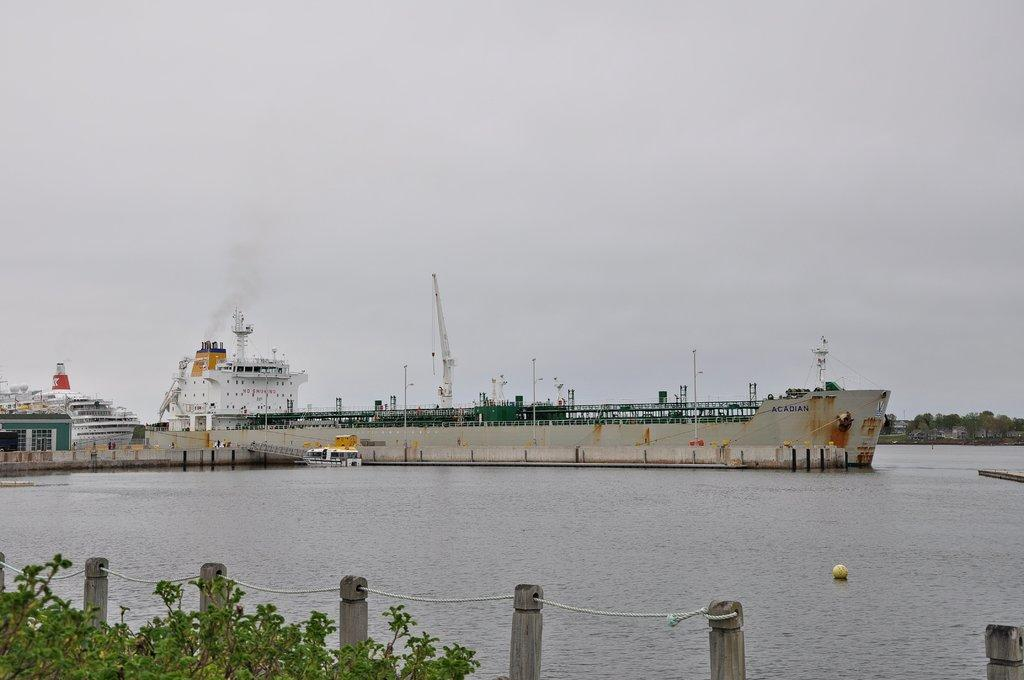PassengerShip: (0, 365, 136, 451)
